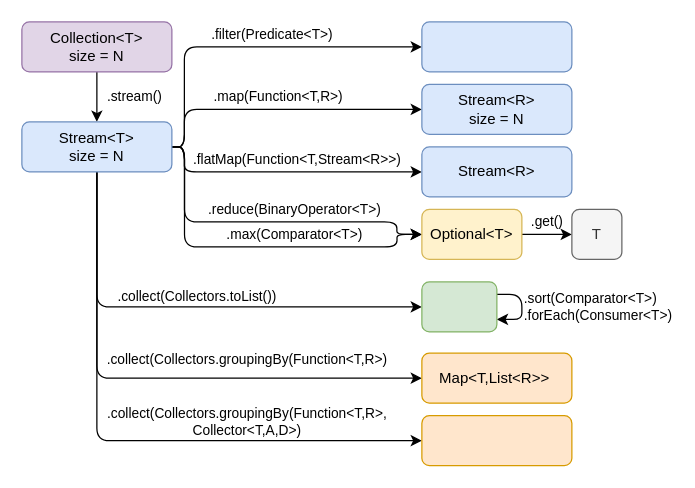
Image size: 695x488. Some labels were removed from this diagram. Each missing label, with the box of its shape:
List<T>: (421, 281, 497, 332)
Map<T,R>: (421, 414, 572, 466)
Stream<T> 0 <= size <= N: (421, 21, 572, 72)
